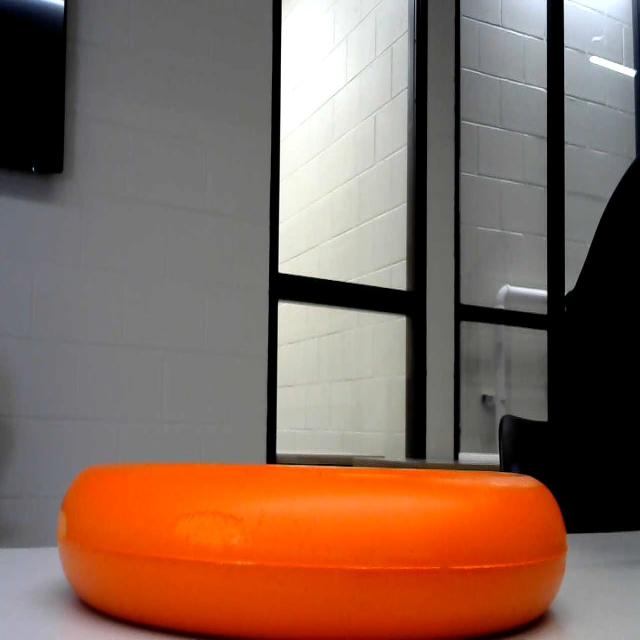note: (90, 258, 186, 358), (146, 280, 180, 339), (233, 335, 268, 366)
